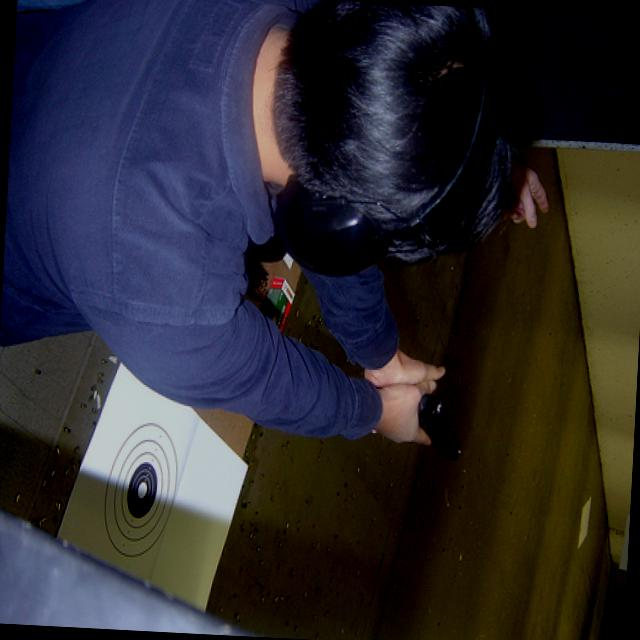handgun: (412, 391, 468, 462)
